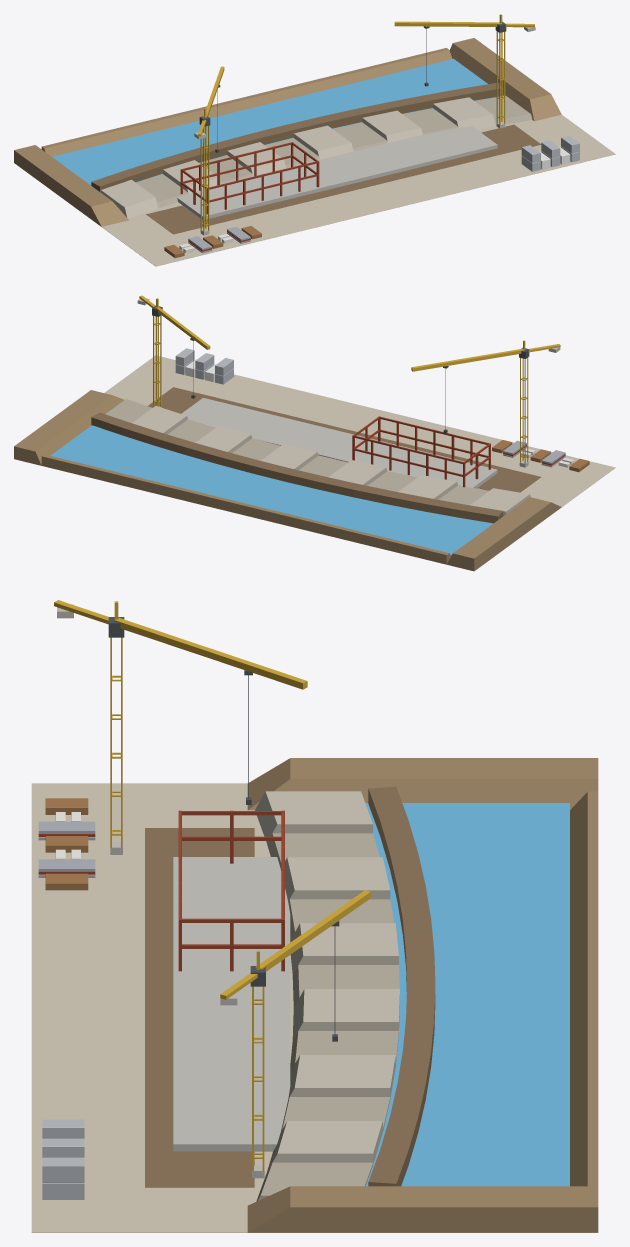
File: mega_hydrodam_1.glb
3 renders of one model, top to bottom at view 1: azimuth 30°, elevation 25°; view 2: azimuth 150°, elevation 25°; view 3: azimuth 270°, elevation 25°, orthographic. The views are drawn at different scales.
Parts seen in each view (by area): view 1: mega_hydrodam_1; view 2: mega_hydrodam_1; view 3: mega_hydrodam_1.
Part boxes in pixels (bbox=[...]): mega_hydrodam_1: bbox=[14, 14, 615, 266]; mega_hydrodam_1: bbox=[14, 295, 615, 571]; mega_hydrodam_1: bbox=[31, 600, 598, 1232].
Size of the model in its own units: 150 by 39 by 80.
